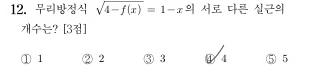choice: (202, 49, 217, 65)
not-choice: (80, 52, 95, 66), (18, 52, 32, 66), (141, 52, 155, 66), (264, 53, 277, 65)
